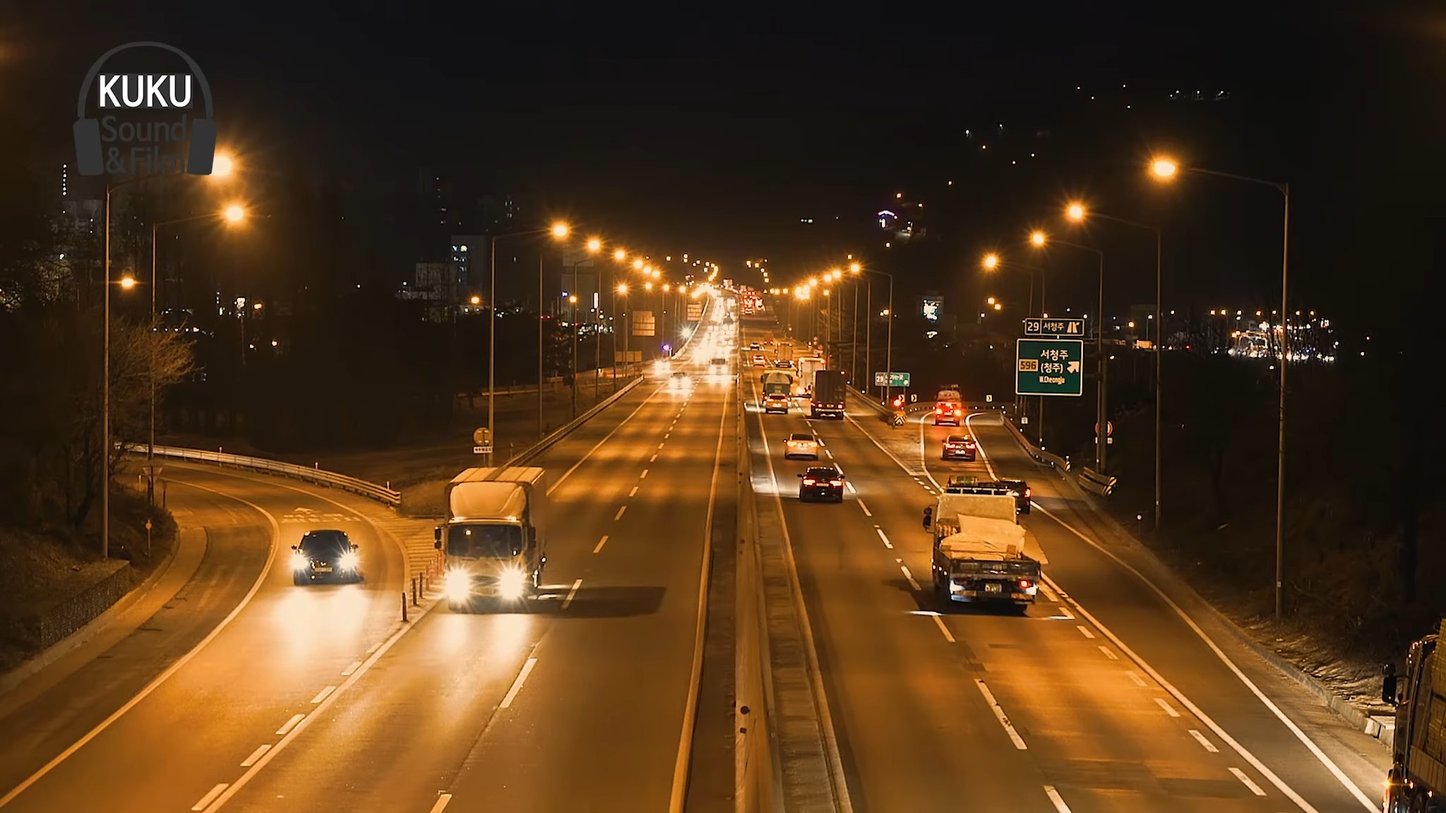car: (290, 533, 356, 580), (800, 468, 845, 504)
truck: (442, 470, 550, 620), (925, 491, 1046, 612)
